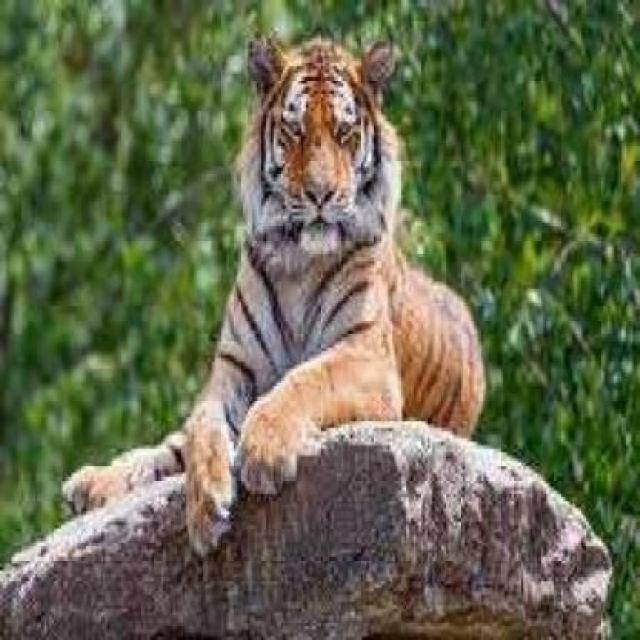tiger: (59, 31, 487, 558)
